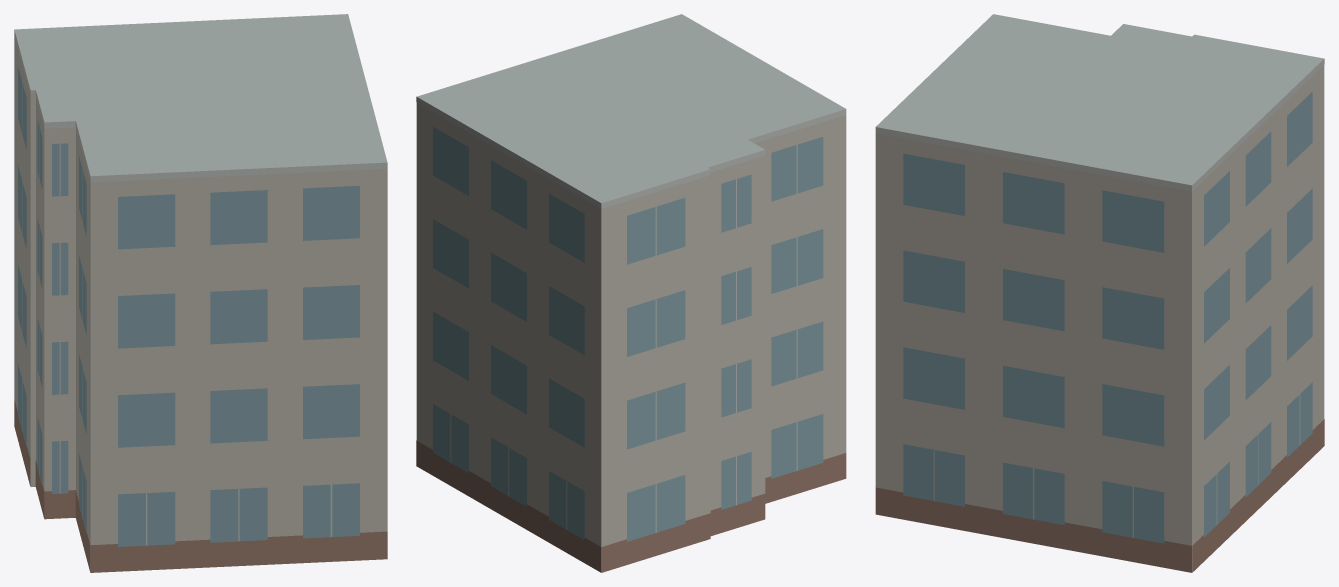
The model's file is survey-upis-33005363.glb.
3 views of the same model, side by side, from view 1: azimuth 30°, elevation 25°; view 2: azimuth 150°, elevation 25°; view 3: azimuth 270°, elevation 25° (orthographic). The views are drawn at different scales.
Visible parts, largest first — view 1: survey-upis-33005363.tmp; view 2: survey-upis-33005363.tmp; view 3: survey-upis-33005363.tmp.
Part boxes in pixels (x1,y1,x2,y2): survey-upis-33005363.tmp: [14, 14, 387, 572]; survey-upis-33005363.tmp: [416, 14, 846, 572]; survey-upis-33005363.tmp: [875, 14, 1324, 572].
Bounding box in the file's own units: 14.62 × 15.4 × 16.18.
